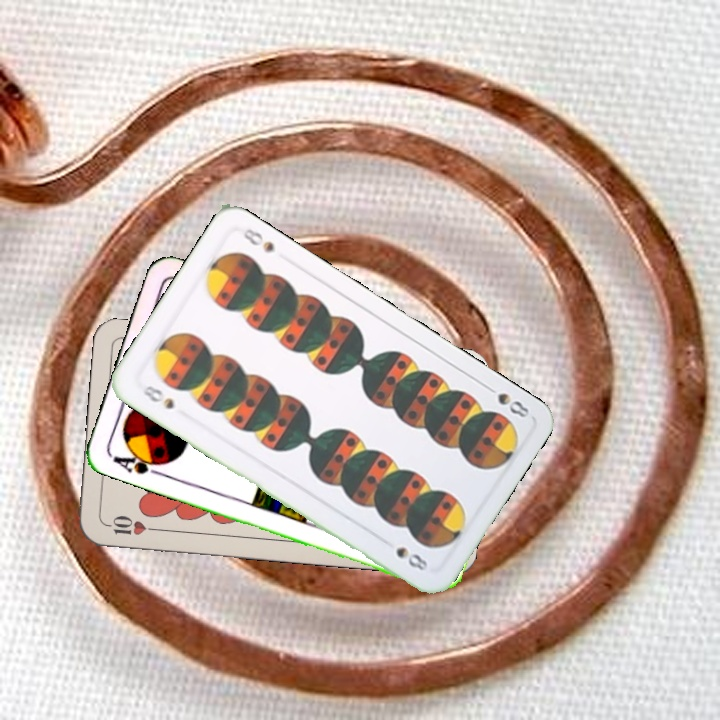H10: (102, 512, 161, 538)
S8: (480, 380, 532, 421), (137, 381, 177, 412)
SA: (107, 446, 168, 478)
